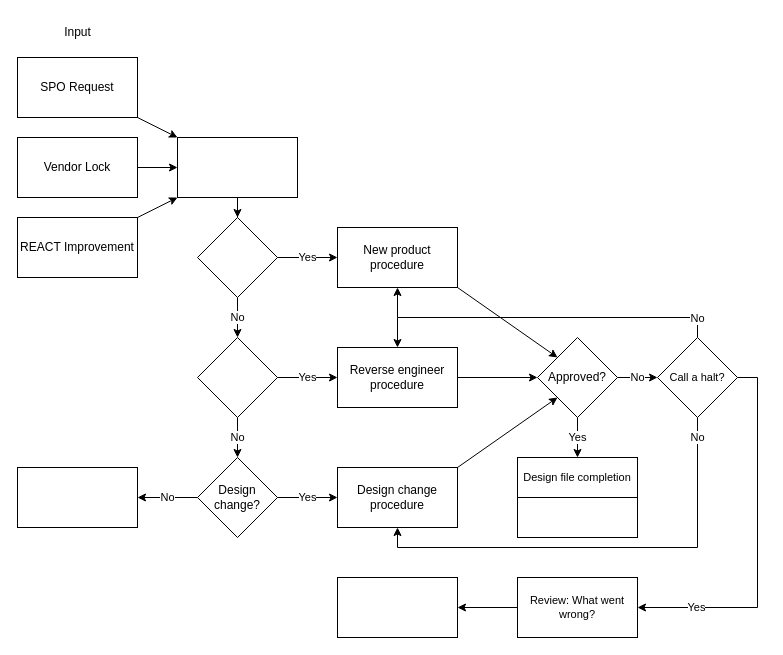
Some shapes in this 783 by 655 pixel diagram are drawn without their labels. Here are the shapes that lost their labels. From the top down, the centre of each, then its label:
At (x=237, y=167): "Develop a need".
At (x=237, y=257): "New Product?".
At (x=237, y=377): "Reverse engineer?".
At (x=77, y=497): "Don't go ahead.".
At (x=577, y=517): "Device release".
At (x=397, y=607): "Process Feedback".
